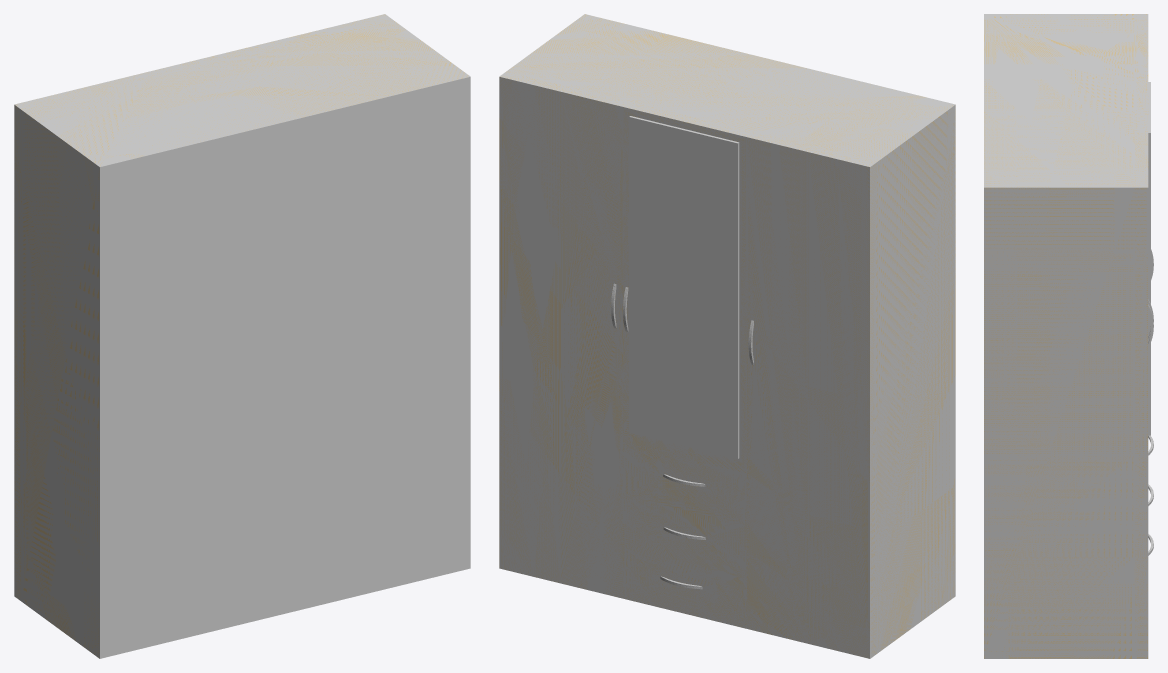
3 views of the same model, side by side, from view 1: azimuth 30°, elevation 25°; view 2: azimuth 150°, elevation 25°; view 3: azimuth 270°, elevation 25° (orthographic). The views are drawn at different scales.
Parts seen in each view (by area): view 1: mesh1_mesh1-geometry; view 2: mesh1_mesh1-geometry; view 3: mesh1_mesh1-geometry.
Part boxes in pixels (<box>): mesh1_mesh1-geometry: <box>14,14,470,658</box>; mesh1_mesh1-geometry: <box>499,14,955,658</box>; mesh1_mesh1-geometry: <box>984,14,1153,658</box>.
Size of the model in its own units: 0.6003 by 0.7603 by 0.2481.
